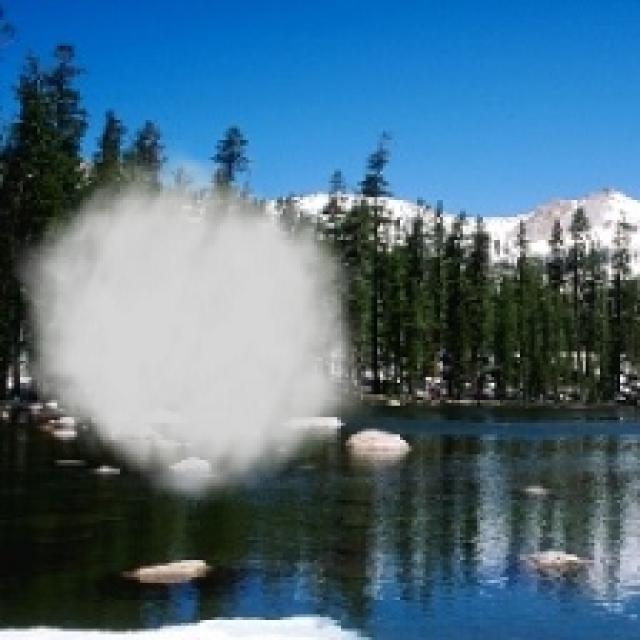Smoke: (11, 140, 380, 514)
